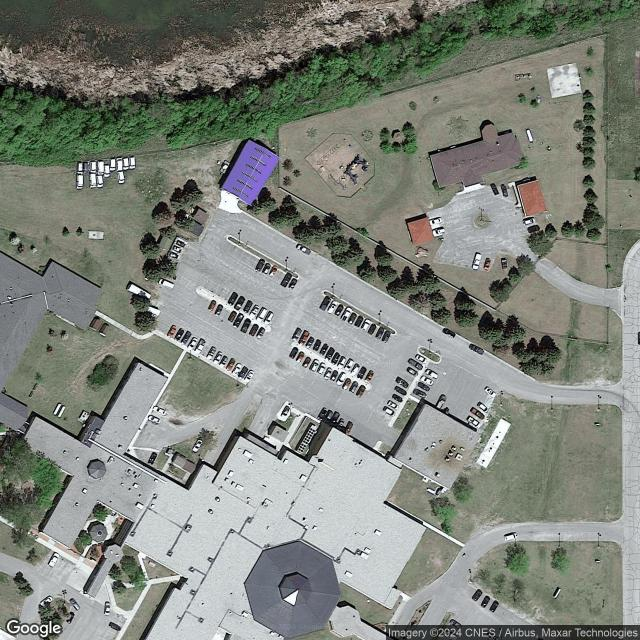Propane: (51, 401, 63, 417), (56, 404, 67, 420), (525, 128, 534, 143), (426, 487, 436, 496)
